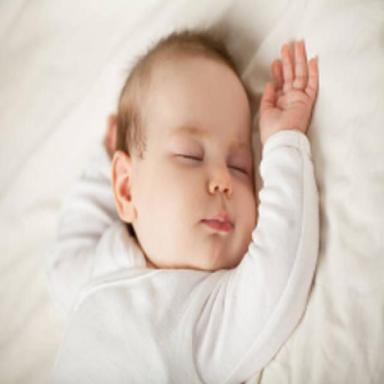normal skin: (113, 57, 256, 270), (259, 41, 318, 144)
